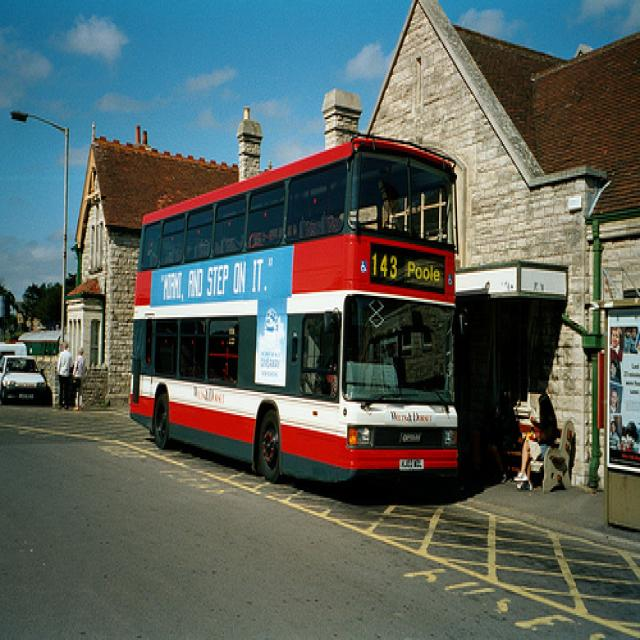light_vehicle: (0, 348, 47, 402)
